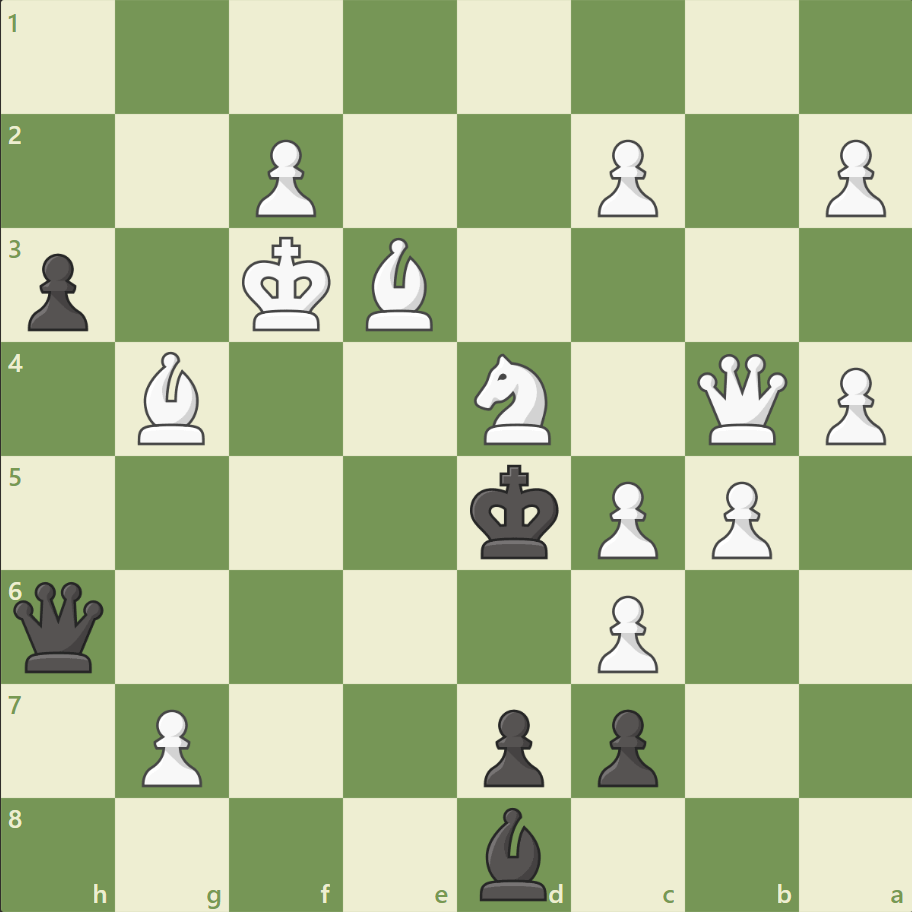B: (358, 233, 442, 336), (131, 347, 215, 449)
K: (238, 231, 338, 339)
N: (465, 348, 562, 450)
P: (133, 700, 208, 791), (701, 473, 776, 564), (247, 132, 322, 223), (588, 586, 662, 677), (588, 473, 662, 564), (815, 359, 889, 450), (815, 132, 889, 223), (588, 132, 662, 223)
Q: (691, 349, 790, 449)
b: (471, 801, 555, 904)
k: (465, 458, 565, 566)
p: (474, 700, 549, 791), (20, 246, 95, 337), (588, 700, 662, 791)
q: (10, 576, 109, 676)
